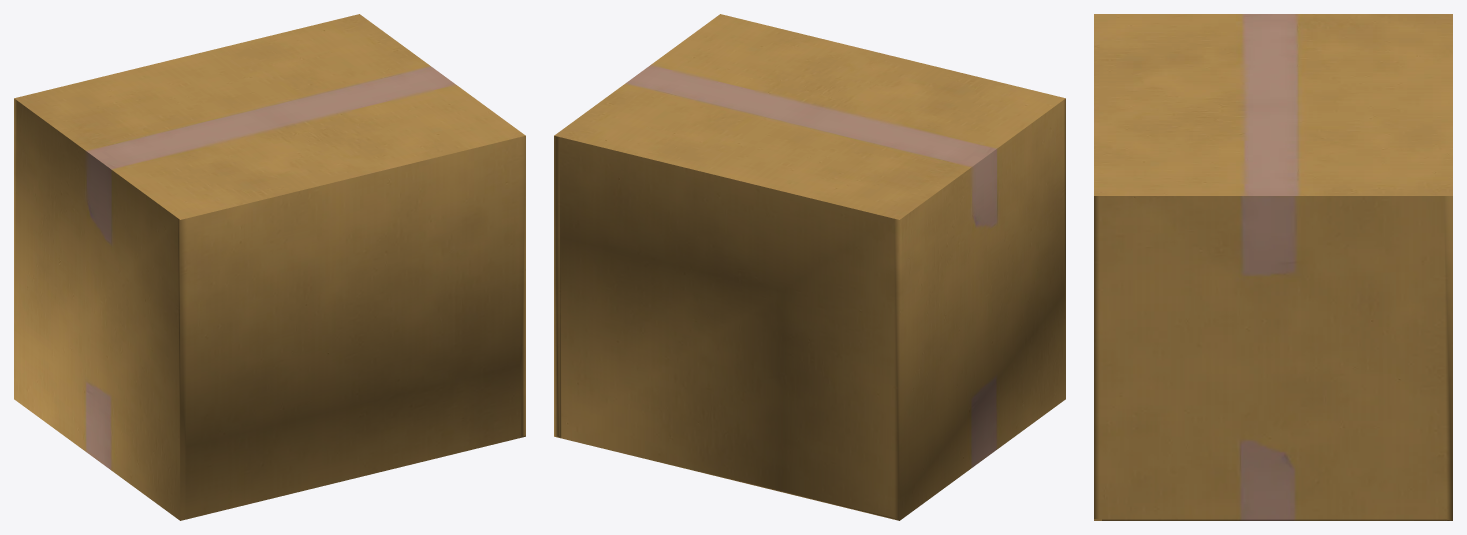
3 renders of one model, left to right at view 1: azimuth 30°, elevation 25°; view 2: azimuth 150°, elevation 25°; view 3: azimuth 270°, elevation 25°, orthographic. The views are drawn at different scales.
Visible parts, largest first — view 1: CardboardBoxClosed_CardboardBoxClosed_0; view 2: CardboardBoxClosed_CardboardBoxClosed_0; view 3: CardboardBoxClosed_CardboardBoxClosed_0.
Boxes of the visible parts, x1,y1,x2,y2 form: CardboardBoxClosed_CardboardBoxClosed_0: [14, 14, 525, 520]; CardboardBoxClosed_CardboardBoxClosed_0: [554, 14, 1065, 520]; CardboardBoxClosed_CardboardBoxClosed_0: [1094, 14, 1452, 520].
Bounding box in the file's own units: 0.3619 × 0.3012 × 0.3016.
Materials: 1 (1 with a texture image).
